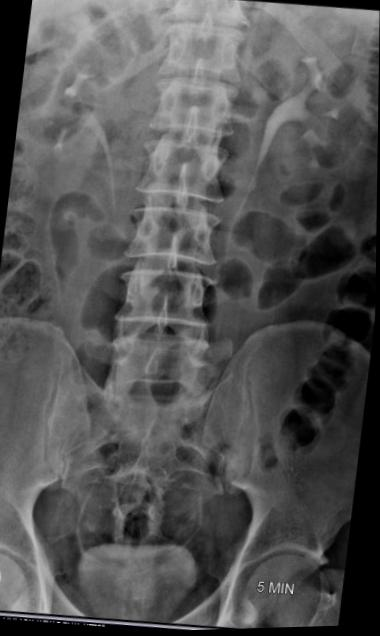bladder: (55, 524, 224, 631)
left kidney: (243, 6, 379, 232)
vertebrae: (147, 73, 244, 146)
